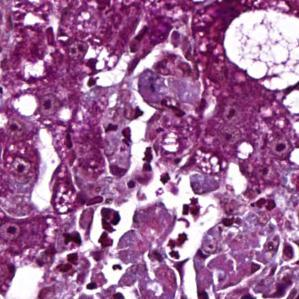ballooning: (221, 6, 299, 94)
